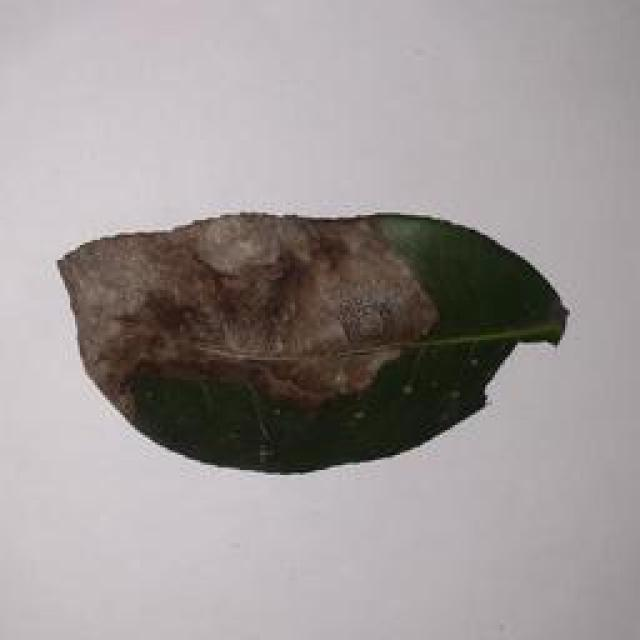Gray Blight: (41, 187, 579, 483)
